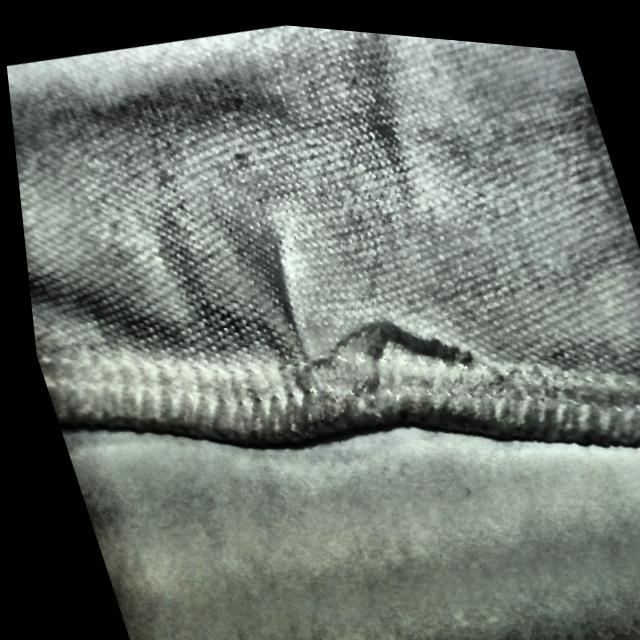seam: (214, 199, 506, 475)
